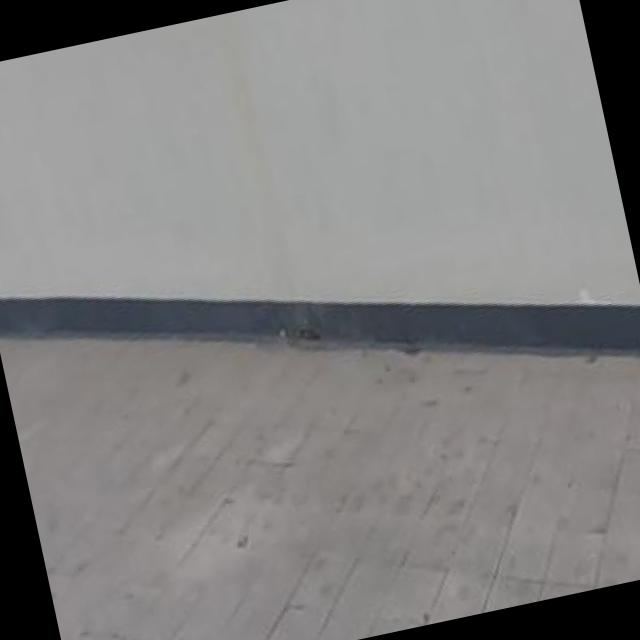Guns: (572, 0, 587, 37)
